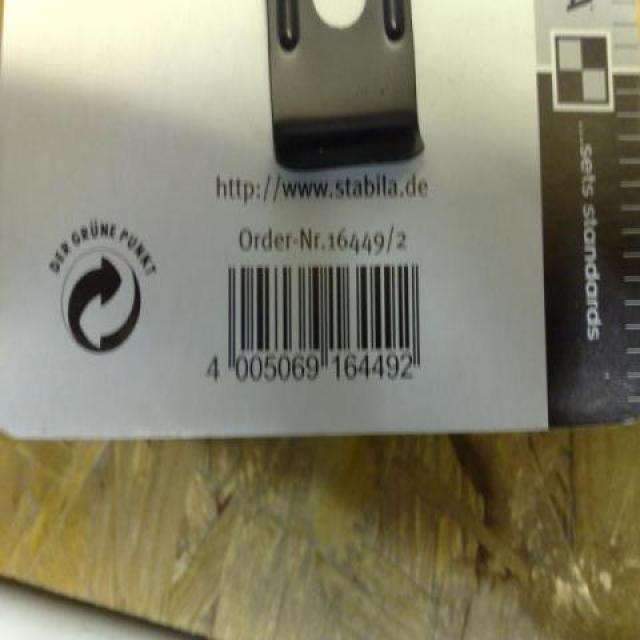Barcode: (195, 255, 441, 400)
